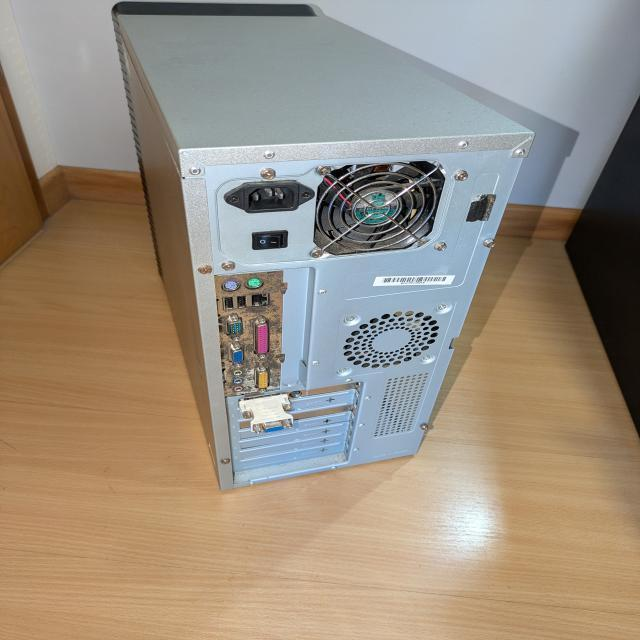PSU: (217, 160, 450, 264)
